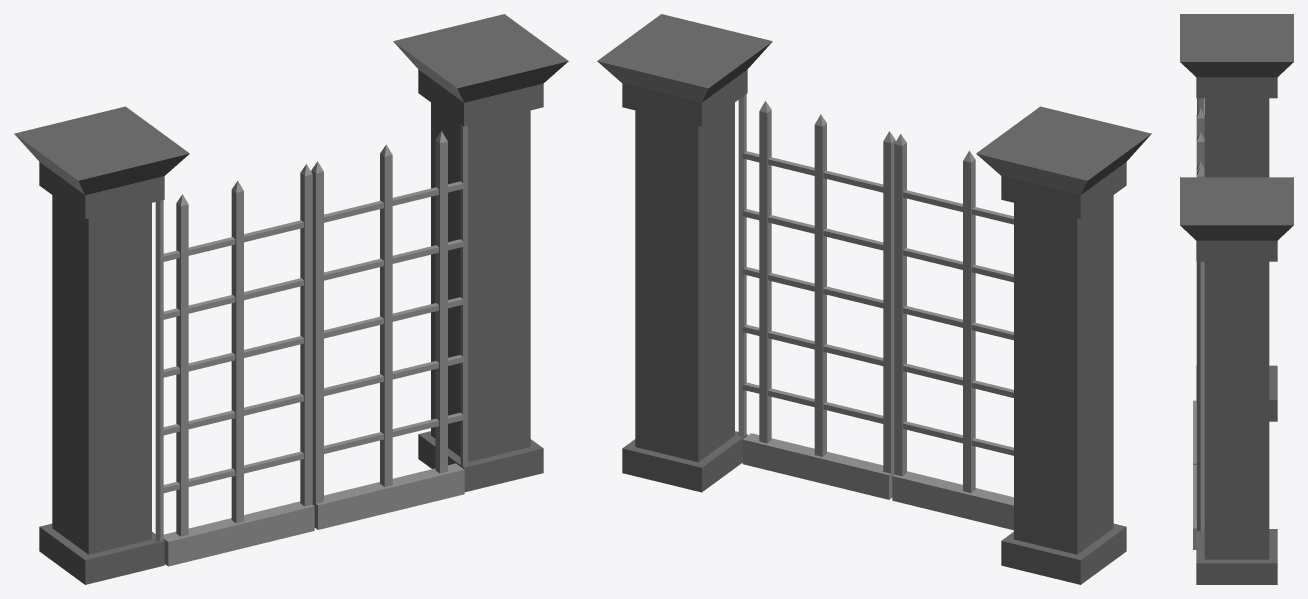
Rendered from Gate_1_1.fbx.
3 views of the same model, side by side, from view 1: azimuth 30°, elevation 25°; view 2: azimuth 150°, elevation 25°; view 3: azimuth 270°, elevation 25° (orthographic). The views are drawn at different scales.
Parts seen in each view (by area): view 1: Gate_1_1, Gate (×2); view 2: Gate_1_1, Gate (×2); view 3: Gate_1_1, Gate (×2).
Boxes of the visible parts, x1,y1,x2,y2 form: Gate_1_1: (14, 14, 568, 584); Gate (×2): (155, 124, 468, 566); Gate_1_1: (597, 14, 1151, 584); Gate (×2): (738, 94, 1013, 530); Gate_1_1: (1180, 14, 1293, 584); Gate (×2): (1193, 98, 1204, 549).
Bounding box in the file's own units: 122 × 98.85 × 27.83.
